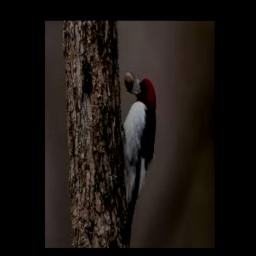Woodpecker: (122, 71, 156, 244)
